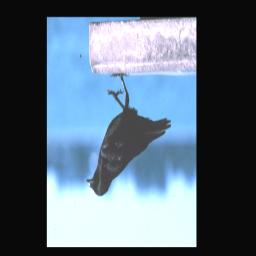Crow: (85, 71, 172, 201)
